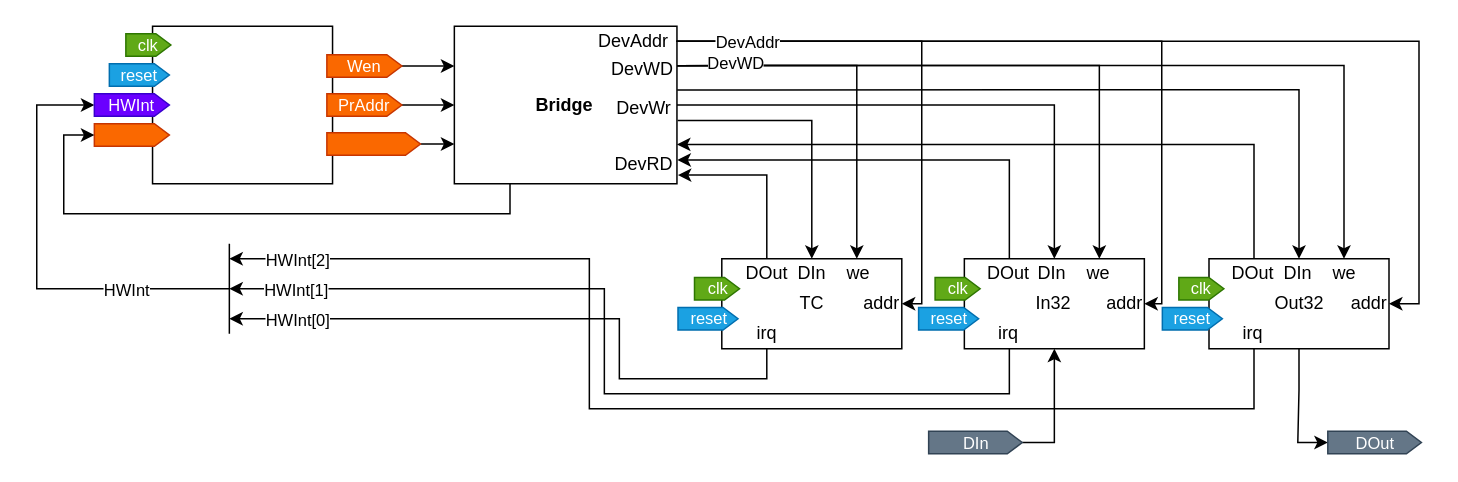
Some shapes in this 1458 by 482 pixel diagram are drawn without their labels. Each missing label, with the centre of its shape:
CPU: (242,104)
PrDIn: (131,134)
PrDOut: (372,143)
